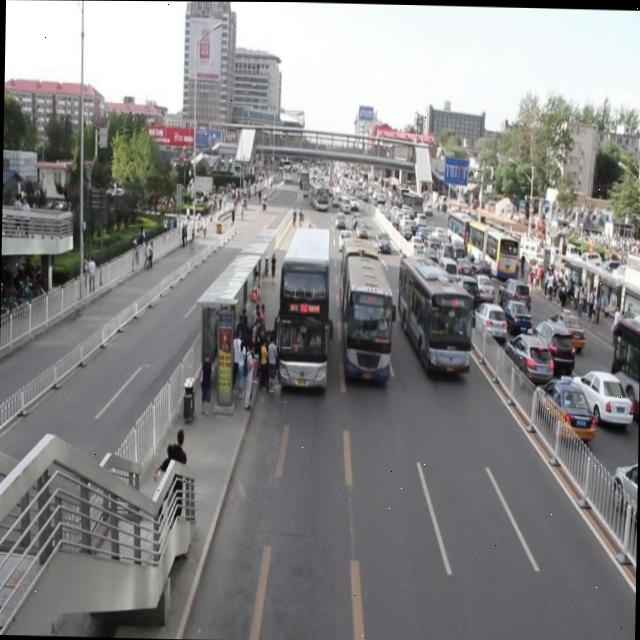car: (374, 230, 390, 252), (333, 209, 345, 228), (338, 230, 350, 248), (355, 220, 366, 237), (350, 210, 360, 225), (348, 191, 356, 209), (330, 188, 338, 204)
truck: (340, 195, 349, 212)
van: (396, 253, 469, 375), (278, 225, 328, 385), (338, 237, 391, 383), (308, 181, 326, 209)
